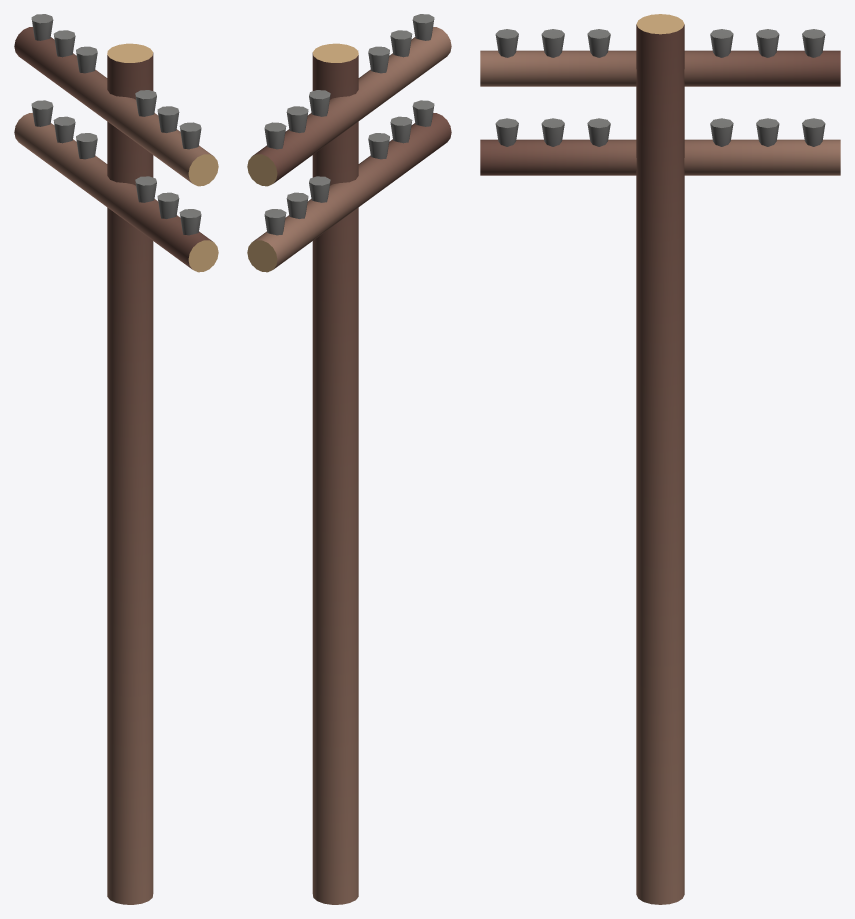
Rendered from Wooden_Pole_1.fbx.
3 renders of one model, left to right at view 1: azimuth 30°, elevation 25°; view 2: azimuth 150°, elevation 25°; view 3: azimuth 270°, elevation 25°, orthographic. The views are drawn at different scales.
Visible parts, largest first — view 1: Wooden_Pole_1; view 2: Wooden_Pole_1; view 3: Wooden_Pole_1.
Boxes of the visible parts, <box> form: Wooden_Pole_1: <box>14,14,218,904</box>; Wooden_Pole_1: <box>247,14,451,904</box>; Wooden_Pole_1: <box>480,14,840,904</box>.
Size of the model in its own units: 0.4864 by 8 by 3.
